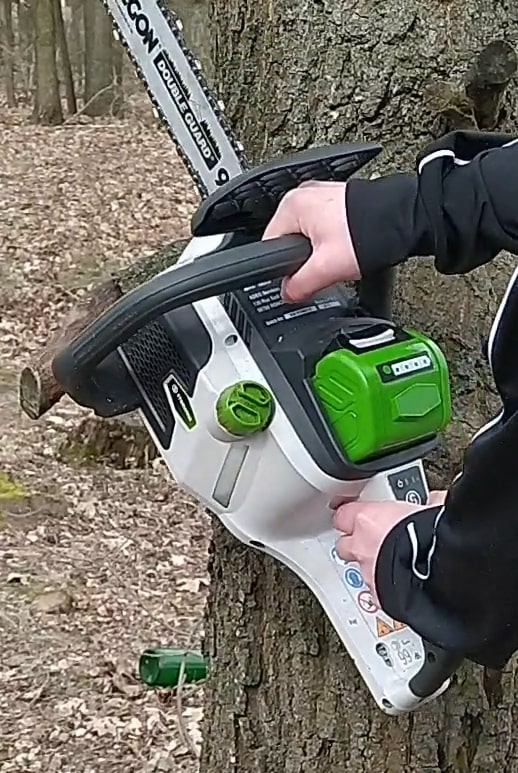chainsaw: (58, 2, 485, 742)
